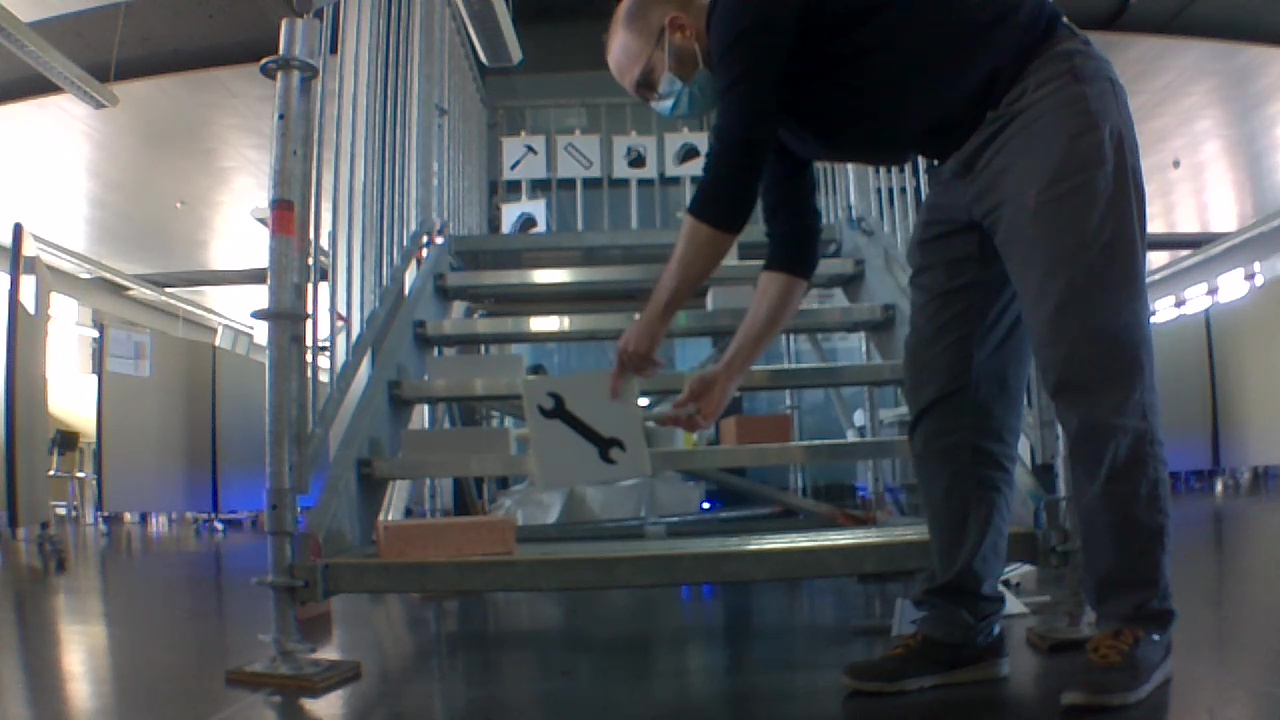brick: (378, 513, 515, 558), (402, 428, 513, 462), (428, 354, 524, 380), (720, 412, 793, 442), (705, 286, 751, 309)
bucket: (614, 137, 652, 171)
hammer: (506, 141, 539, 176)
ruler: (558, 140, 597, 175)
taco: (668, 139, 701, 170), (507, 206, 540, 234)
wrench: (530, 386, 632, 470)
